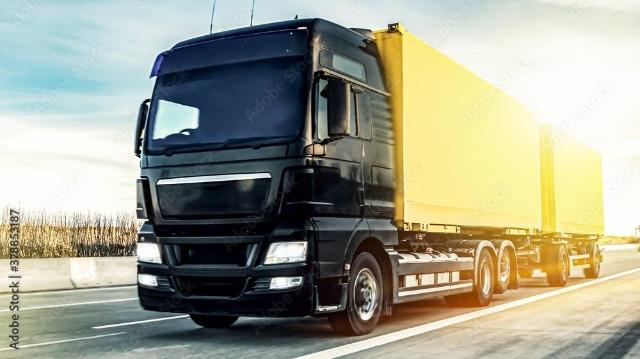truck: (116, 18, 609, 335)
